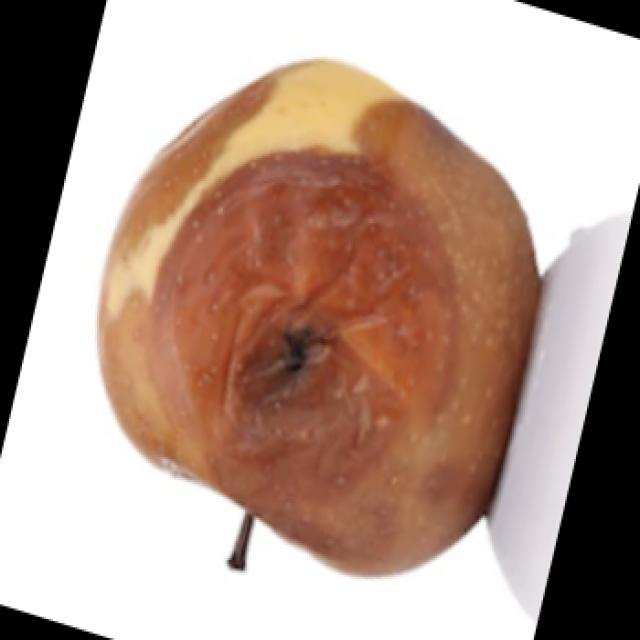Rotten: (98, 68, 535, 570)
